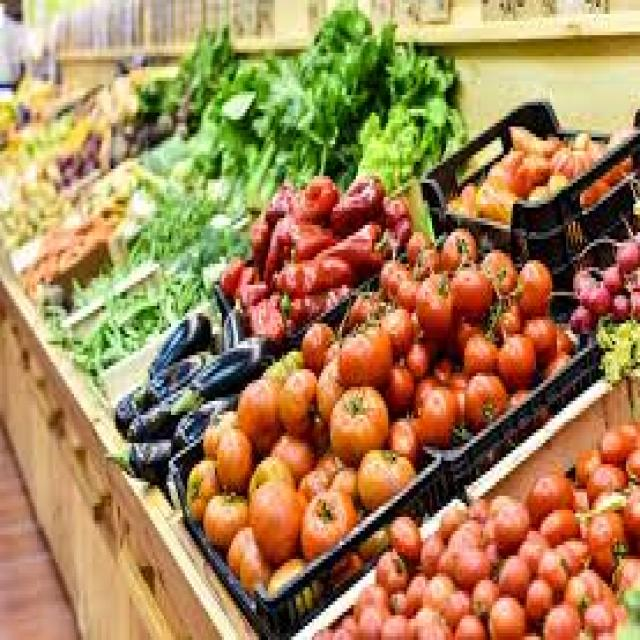organic waste: (291, 3, 462, 183), (188, 49, 300, 176), (134, 24, 240, 134), (127, 183, 245, 250), (169, 334, 270, 404), (166, 225, 252, 306), (354, 102, 421, 190), (0, 162, 67, 242), (97, 63, 183, 123), (328, 380, 388, 464), (259, 211, 330, 278), (247, 482, 303, 562), (95, 292, 173, 348), (129, 348, 215, 397), (298, 482, 351, 559), (314, 222, 390, 274), (104, 433, 178, 485), (148, 310, 210, 370), (233, 373, 275, 457), (270, 257, 354, 299), (356, 446, 414, 506), (338, 316, 390, 380), (582, 510, 631, 577), (111, 112, 187, 154), (268, 426, 314, 492), (328, 172, 381, 229), (263, 559, 319, 612), (522, 464, 571, 524), (199, 485, 247, 545), (275, 366, 316, 436), (173, 398, 231, 447), (594, 316, 638, 380), (411, 376, 455, 440), (224, 524, 268, 587), (448, 260, 490, 324), (122, 394, 180, 439), (215, 426, 252, 492), (185, 454, 219, 524), (414, 267, 451, 331), (490, 492, 529, 552), (370, 295, 411, 352), (291, 172, 337, 222), (464, 369, 502, 429), (513, 253, 548, 317), (499, 148, 552, 190), (245, 454, 293, 499), (280, 281, 346, 313), (379, 190, 409, 260), (497, 327, 536, 380), (242, 288, 280, 338), (312, 348, 340, 415), (582, 461, 626, 503), (56, 134, 100, 176), (217, 88, 257, 134), (550, 140, 601, 176), (446, 313, 483, 362), (596, 418, 638, 461), (113, 387, 153, 432), (69, 260, 125, 292), (531, 545, 566, 594), (441, 218, 476, 267), (388, 513, 418, 570), (386, 411, 416, 468), (201, 408, 233, 461), (508, 120, 557, 154), (67, 331, 109, 369), (400, 179, 430, 232), (481, 247, 513, 296), (460, 327, 494, 373), (450, 545, 490, 584), (381, 359, 411, 411), (298, 317, 328, 369), (485, 594, 522, 636), (474, 179, 513, 218), (127, 158, 166, 197), (148, 134, 192, 168), (236, 260, 268, 306), (619, 482, 638, 559), (497, 556, 531, 598), (443, 521, 488, 552), (374, 545, 404, 591), (584, 489, 622, 524), (541, 602, 580, 636), (522, 309, 552, 352), (575, 562, 610, 598), (217, 257, 247, 299), (354, 580, 388, 616), (356, 524, 390, 559), (538, 503, 576, 534), (522, 574, 550, 616), (30, 246, 65, 278), (471, 577, 497, 619), (439, 587, 467, 626), (518, 524, 543, 566), (436, 503, 466, 538), (83, 211, 120, 239), (245, 211, 266, 260), (585, 598, 612, 636), (561, 573, 587, 612), (492, 299, 518, 337), (314, 447, 340, 485), (423, 573, 448, 612), (402, 338, 427, 376), (418, 528, 439, 573), (559, 534, 585, 570), (578, 278, 608, 309), (612, 552, 638, 587), (571, 446, 596, 482), (391, 267, 414, 306), (266, 179, 289, 218), (450, 180, 476, 214), (222, 299, 240, 348), (60, 229, 88, 260), (610, 236, 635, 270), (266, 348, 300, 373), (527, 172, 561, 197), (344, 292, 374, 320), (566, 302, 592, 334), (411, 239, 437, 271), (106, 169, 132, 200), (333, 545, 358, 577), (358, 602, 381, 636), (578, 176, 610, 200), (594, 260, 621, 288), (377, 257, 398, 292), (603, 591, 622, 629), (622, 440, 638, 485), (453, 612, 483, 636), (409, 605, 432, 636), (603, 152, 628, 180), (379, 612, 407, 636), (536, 352, 564, 376), (504, 380, 531, 404), (391, 588, 414, 616), (622, 584, 638, 622), (404, 570, 420, 608), (210, 278, 229, 309), (414, 619, 448, 636), (453, 373, 464, 425), (608, 285, 626, 316), (169, 155, 187, 186), (552, 324, 571, 352), (404, 225, 423, 253), (437, 545, 453, 577), (467, 496, 488, 520), (430, 355, 450, 376), (568, 482, 582, 510), (570, 264, 584, 292), (485, 155, 499, 183), (566, 130, 587, 148), (407, 573, 422, 598), (338, 616, 353, 636), (630, 285, 638, 316), (328, 626, 347, 636), (312, 626, 323, 636)
